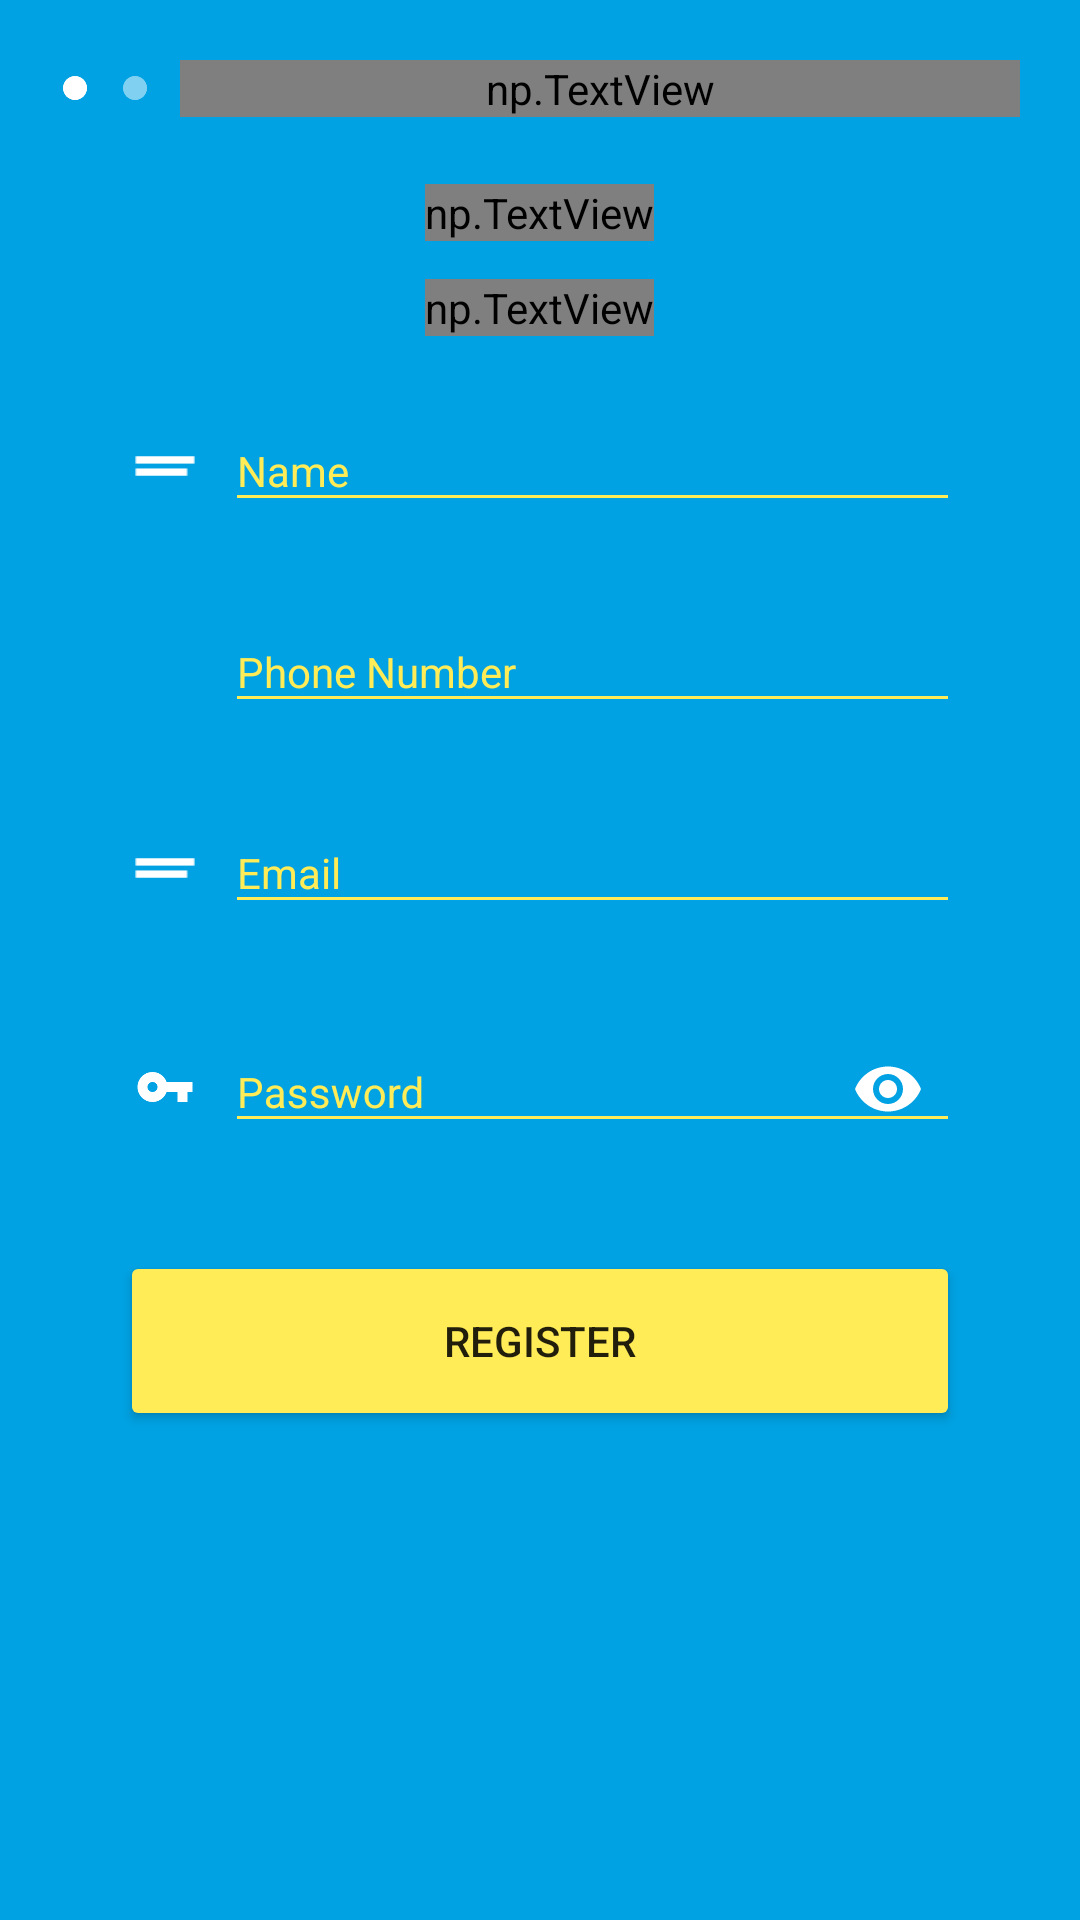

Icon click points for this 1080w x 1920h phone screenshot, format (x,y):
vpn key: (165,1087)
